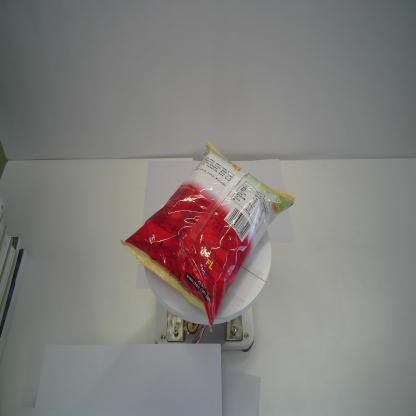Puffed Food: (120, 138, 296, 333)
